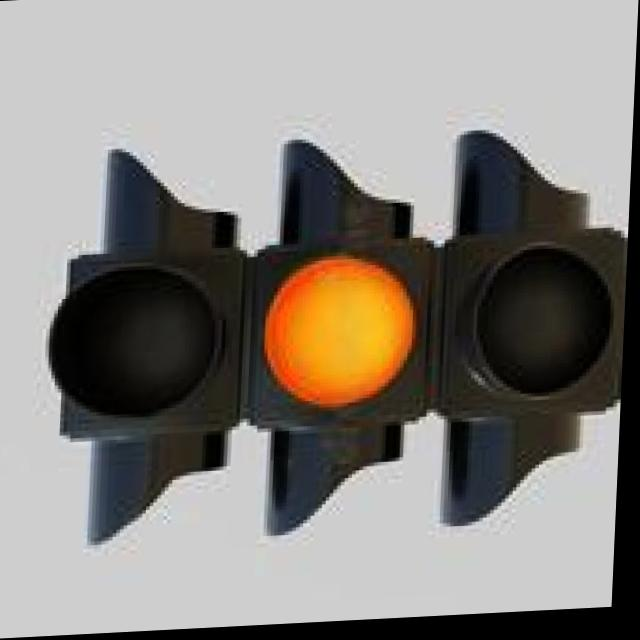yellow_light: (241, 219, 436, 439)
